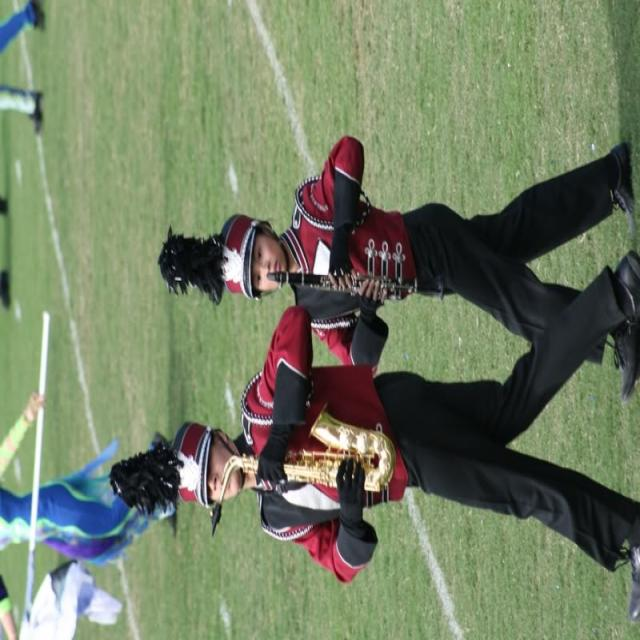clarinet: (263, 264, 454, 306)
saxophone: (208, 405, 399, 541)
